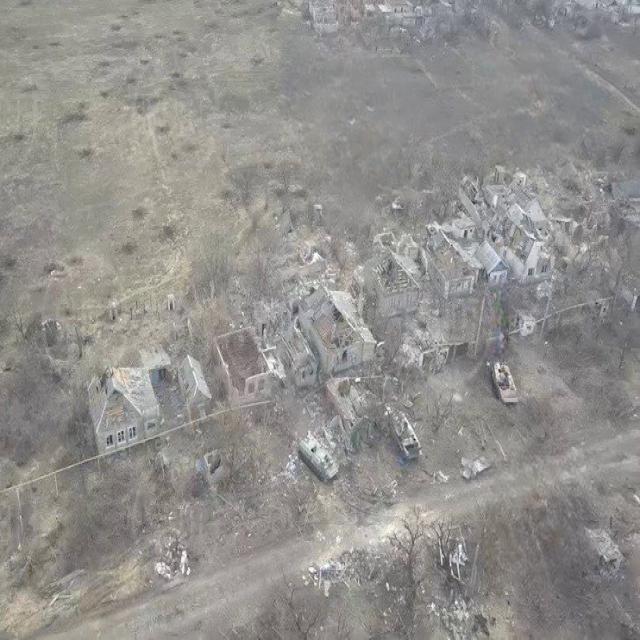AIFV: (388, 401, 425, 466), (493, 359, 520, 413)
APC: (299, 430, 340, 492)
